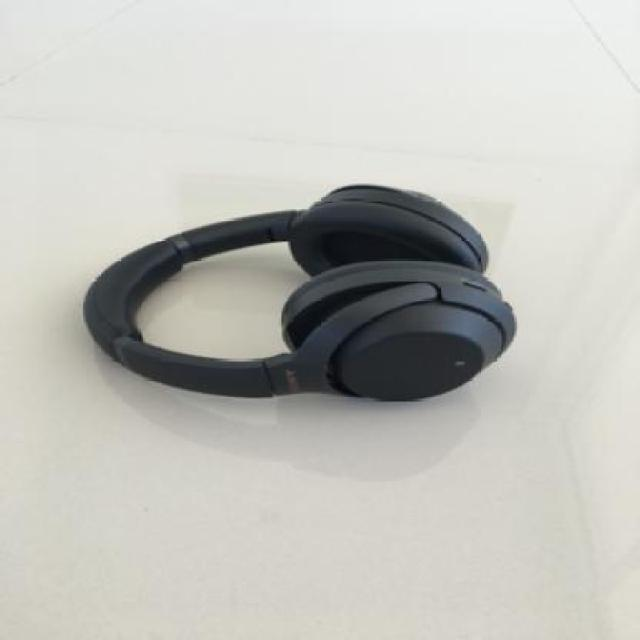earphone: (80, 77, 525, 440)
